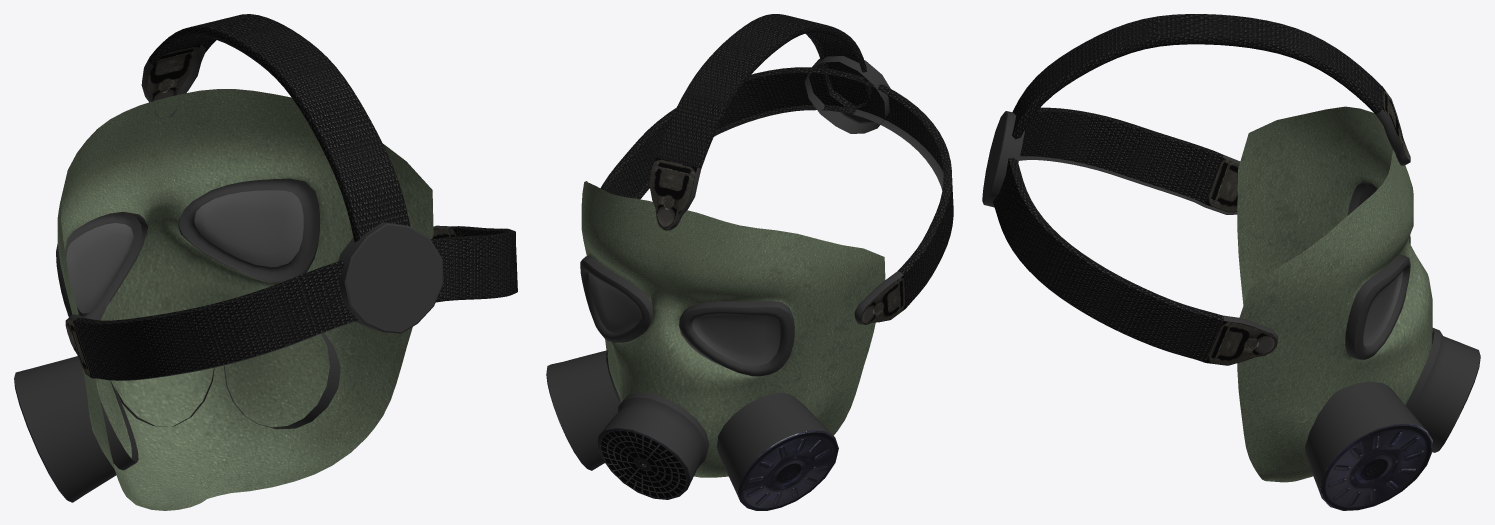
File: Gas Mask.fbx
3 renders of one model, left to right at view 1: azimuth 30°, elevation 25°; view 2: azimuth 150°, elevation 25°; view 3: azimuth 270°, elevation 25°, orthographic. The views are drawn at different scales.
Parts seen in each view (by area): view 1: Gas Mask Lo; view 2: Gas Mask Lo; view 3: Gas Mask Lo.
Boxes of the visible parts, bbox=[...] form: Gas Mask Lo: bbox=[14, 14, 517, 510]; Gas Mask Lo: bbox=[546, 14, 953, 510]; Gas Mask Lo: bbox=[982, 14, 1480, 510].
Bounding box in the file's own units: 257 × 312 × 321.
Materials: 7 (5 with a texture image).
